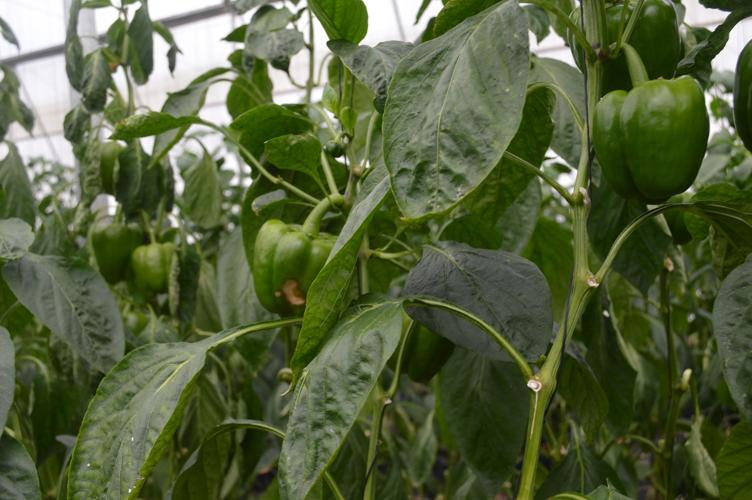BellPepper: (591, 72, 716, 218), (246, 215, 351, 339), (371, 295, 459, 396), (85, 199, 139, 274), (128, 241, 196, 298)
